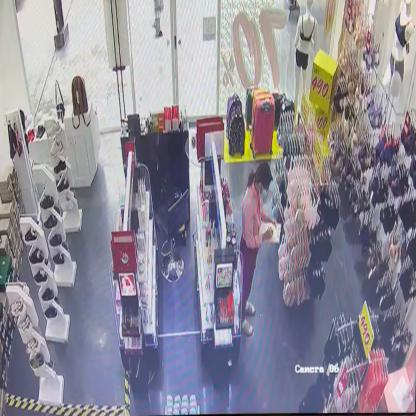face: (254, 161, 274, 201)
human: (238, 160, 279, 338)
